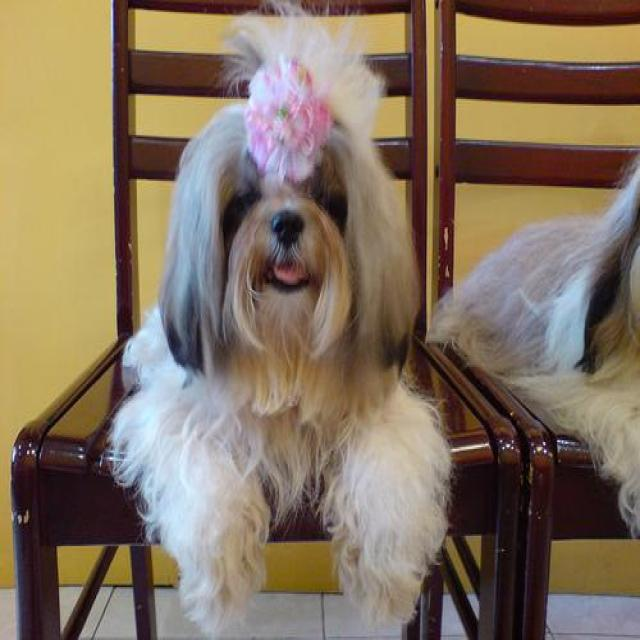shih_tzu: (110, 12, 460, 631), (430, 162, 639, 538)
